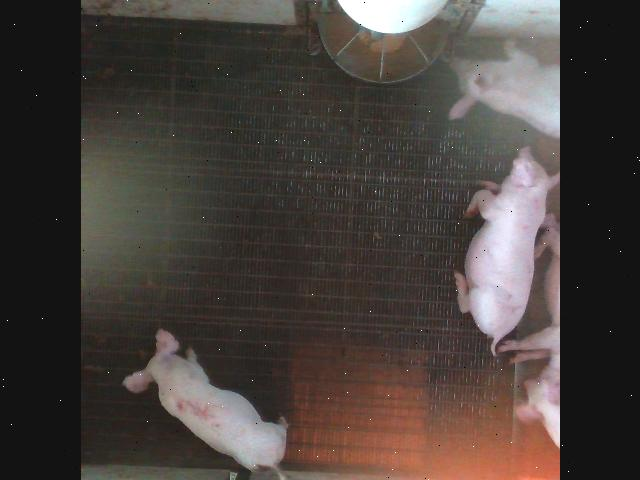pig-5: (121, 329, 286, 480)
